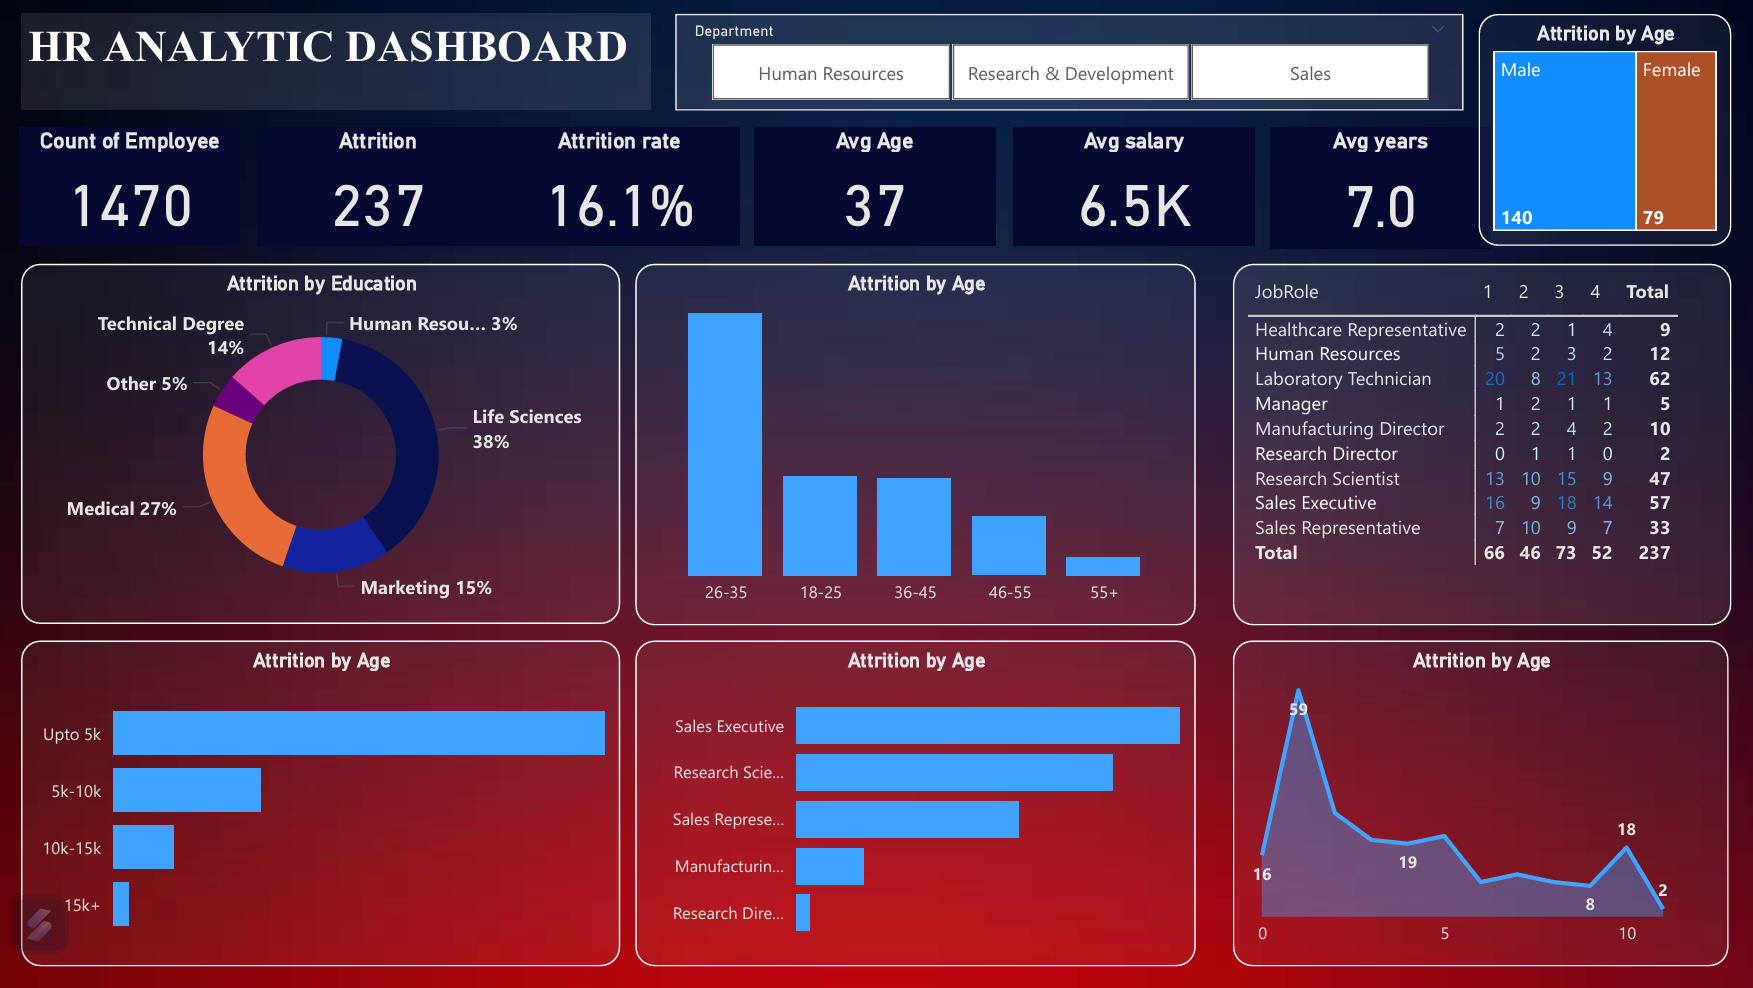

Layout of this report page (visuals, bound fields, positions):
{"tool":"powerbi","page":{"name":"Page 1","canvas":[1280,720],"ordinal":0},"visuals":[{"type":"card","title":"Count of Employee","fields":{"Values":["CountNonNull(HR_Analytics.EmpID)"]},"box":[20,91.7,160,86.7],"z":0},{"type":"card","title":"Attrition","fields":{"Values":["Sum(HR_Analytics.Attretion count)"]},"box":[192.5,92.3,175,85.9],"z":1000},{"type":"card","title":"Attrition rate","fields":{"Values":["HR_Analytics.Attrition rate"]},"box":[367.4,92.3,175,85.9],"z":2000},{"type":"card","title":"Avg Age","fields":{"Values":["Avg(HR_Analytics.Age)"]},"box":[551.9,92.3,175,85.9],"z":3000},{"type":"card","title":"Avg salary","fields":{"Values":["Avg(HR_Analytics.MonthlyIncome)"]},"box":[739.6,92.3,175,85.9],"z":4000},{"type":"card","title":"Avg years","fields":{"Values":["Avg(HR_Analytics.YearsAtCompany)"]},"box":[925.7,92.3,160.7,87.5],"z":5000},{"type":"donutChart","title":"Attrition by Education","fields":{"Y":["Sum(HR_Analytics.Attrition count)"],"Series":["HR_Analytics.EducationField"]},"box":[20.7,190.9,434.2,260.9],"z":6000},{"type":"columnChart","title":"Attrition by Age","fields":{"Category":["HR_Analytics.AgeGroup"],"Y":["Sum(HR_Analytics.Attrition count)"]},"box":[466,190.9,405.6,262.5],"z":7000},{"type":"pivotTable","fields":{"Rows":["HR_Analytics.JobRole"],"Columns":["HR_Analytics.JobSatisfaction"],"Values":["Sum(HR_Analytics.Attrition count)"]},"box":[898.7,190.9,361.1,262.5],"z":8000},{"type":"barChart","title":"Attrition by Age","fields":{"Category":["HR_Analytics.SalarySlab"],"Y":["Sum(HR_Analytics.Attrition count)"]},"box":[20.7,464.5,434.2,235.4],"z":8001},{"type":"barChart","title":"Attrition by Age","fields":{"Category":["HR_Analytics.JobRole"],"Y":["Sum(HR_Analytics.Attrition count)"]},"box":[466,464.5,405.6,235.4],"z":8002},{"type":"areaChart","title":"Attrition by Age","fields":{"Category":["HR_Analytics.YearsAtCompany"],"Y":["Sum(HR_Analytics.Attrition count)"]},"box":[898.7,464.5,359.5,235.4],"z":8003},{"type":"treemap","title":"Attrition by Age","fields":{"Group":["HR_Analytics.Gender"],"Values":["Sum(HR_Analytics.Attrition count)"]},"box":[1076.8,9.5,182.9,168.6],"z":8004},{"type":"slicer","fields":{"Values":["HR_Analytics.Department"]},"box":[494.7,9.5,571,70],"z":8005},{"type":"textbox","box":[20.7,9.5,456.5,70],"z":8006}]}

Visuals, with their boxes in screenshot pixels (x1, y1, x2, y2), scaled from the page's 1280x720 canvas onto the 1753x988 screenshot:
"Count of Employee" card: [27,126,247,245]
"Attrition" card: [264,127,503,245]
"Attrition rate" card: [503,127,743,245]
"Avg Age" card: [756,127,996,245]
"Avg salary" card: [1013,127,1253,245]
"Avg years" card: [1268,127,1488,247]
"Attrition by Education" donutChart: [28,262,623,620]
"Attrition by Age" columnChart: [638,262,1194,622]
pivotTable - HR_Analytics.JobRole x HR_Analytics.JobSatisfaction: [1231,262,1725,622]
"Attrition by Age" barChart: [28,637,623,960]
"Attrition by Age" barChart: [638,637,1194,960]
"Attrition by Age" areaChart: [1231,637,1723,960]
"Attrition by Age" treemap: [1475,13,1725,244]
slicer - HR_Analytics.Department: [678,13,1460,109]
textbox: [28,13,654,109]
